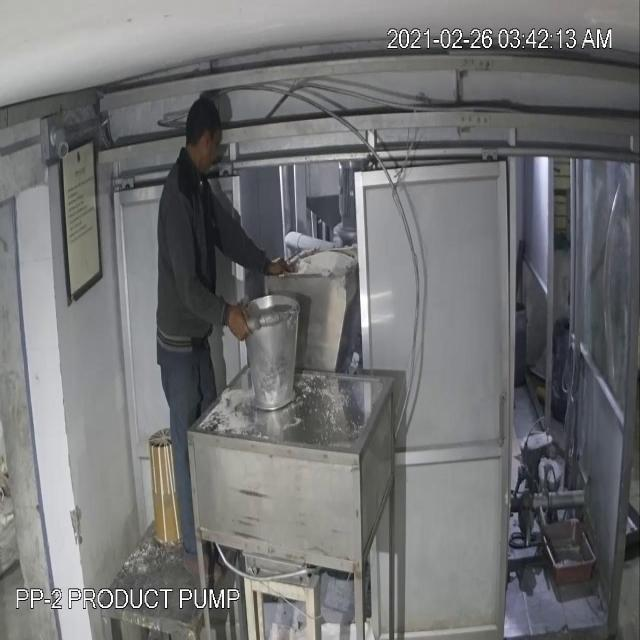no-helmet: (184, 93, 224, 186)
